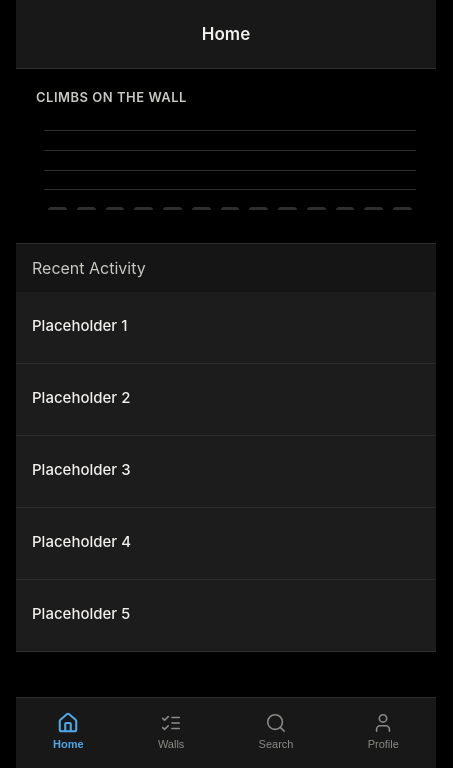
Scenario: App() — Profile tab / auth state › shows the logged-in profile (username) once /api/me confirms the cached session
Click the button "Profile": {"x": 383, "y": 731} [360, 708, 407, 754]
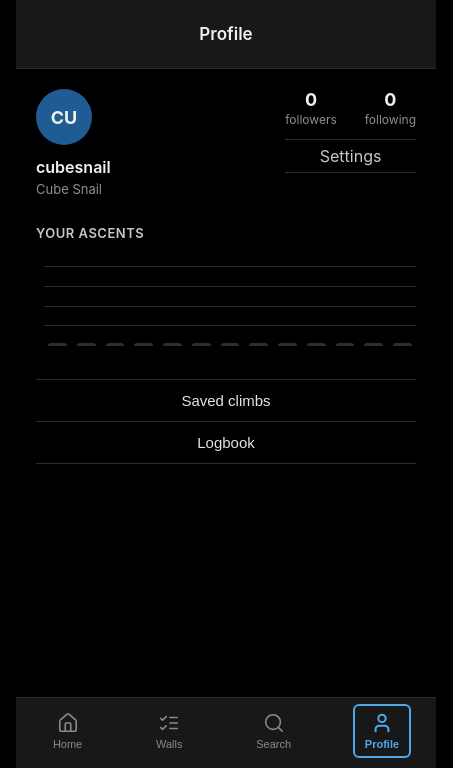
Expected: the text "cubesnail" is shown, [36, 157, 111, 177]
